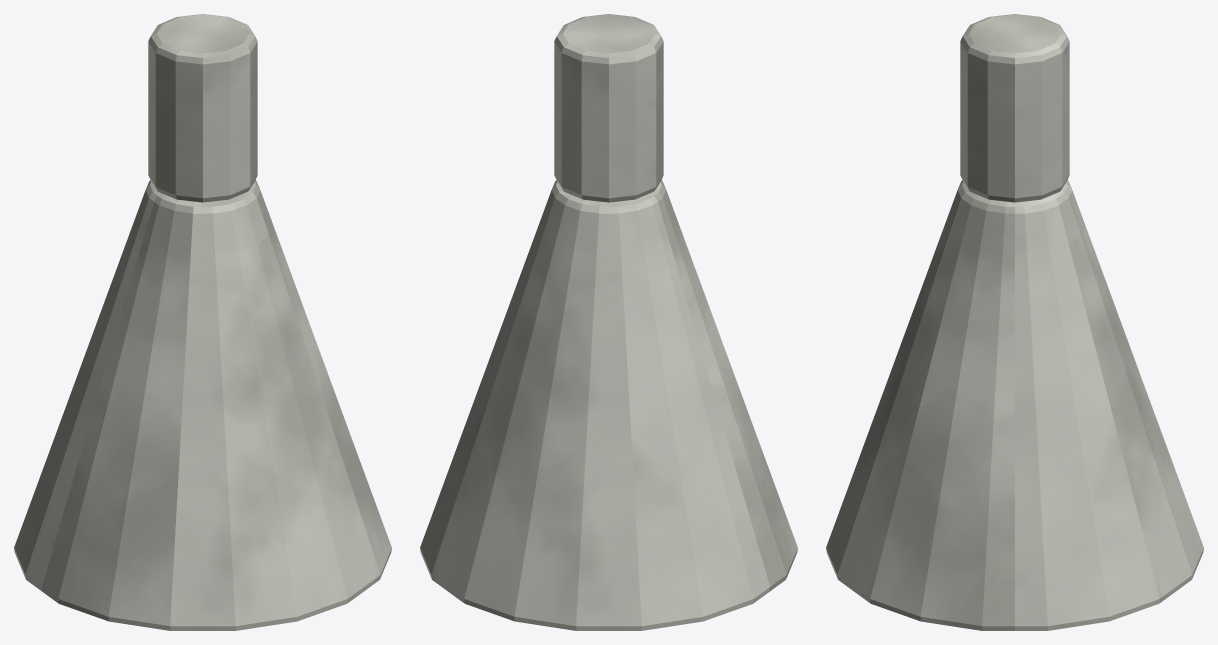
Rendered from Y02_beakers_flasks_v3.glb.
3 views of the same model, side by side, from view 1: azimuth 30°, elevation 25°; view 2: azimuth 150°, elevation 25°; view 3: azimuth 270°, elevation 25° (orthographic).
Parts seen in each view (by area): view 1: Y02_beakers_flasks_v3; view 2: Y02_beakers_flasks_v3; view 3: Y02_beakers_flasks_v3.
Part boxes in pixels (left/top/right/bottom): Y02_beakers_flasks_v3: left=14, top=14, right=391, bottom=630; Y02_beakers_flasks_v3: left=420, top=14, right=797, bottom=630; Y02_beakers_flasks_v3: left=826, top=14, right=1203, bottom=630.
Bounding box in the file's own units: 0.1943 × 0.3 × 0.1973.
2 materials, 2 textured.
